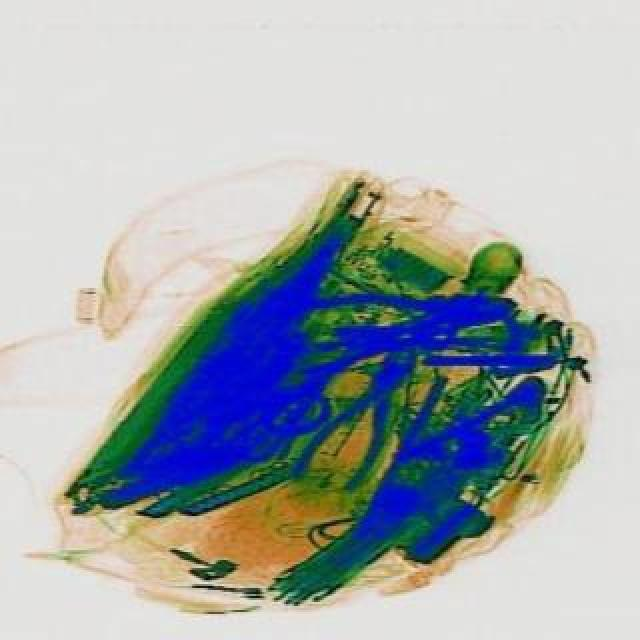wrench: (280, 262, 524, 378), (284, 326, 442, 504)
